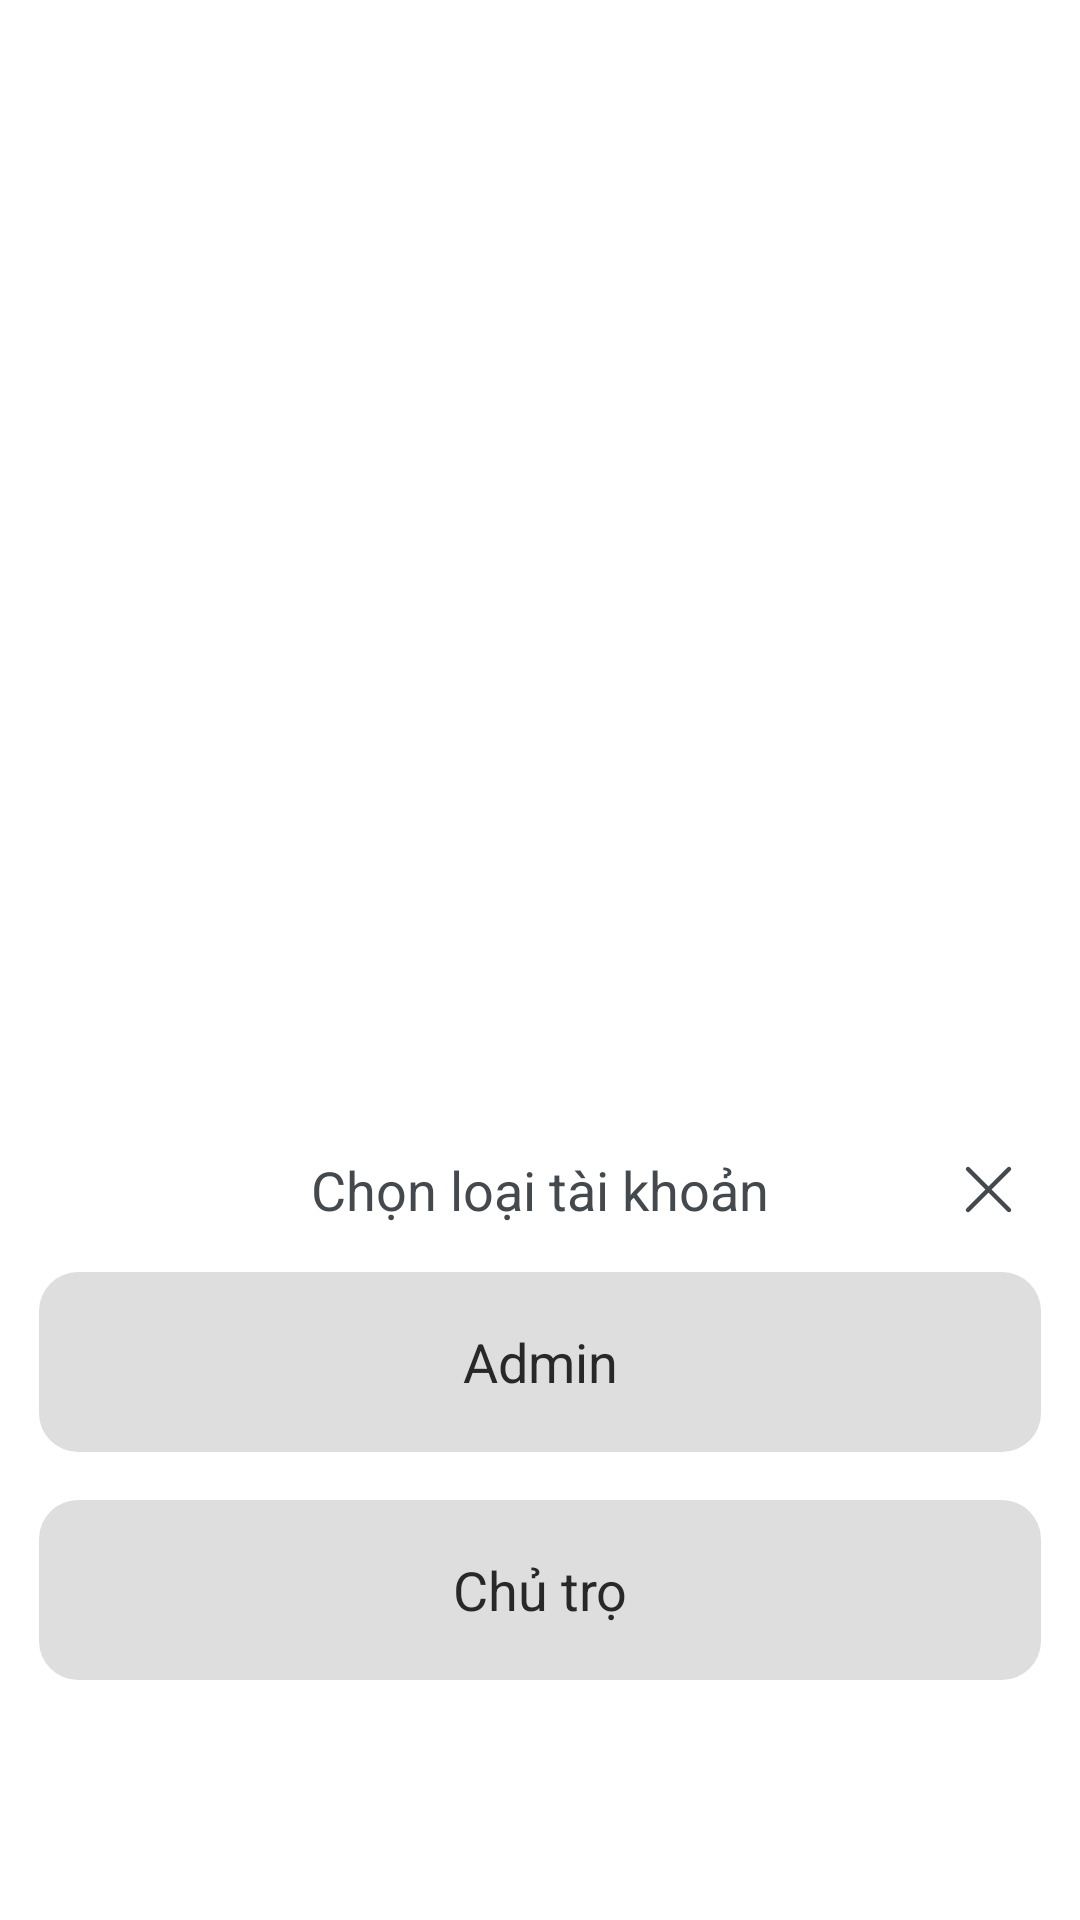

Icons on this 1080 × 1920 Android screen, each with its box as bbox=(x1, y1, x2, y2):
bsim close: bbox=(966, 1167, 1011, 1212)
